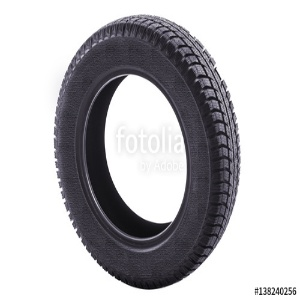tire: (52, 13, 242, 288)
